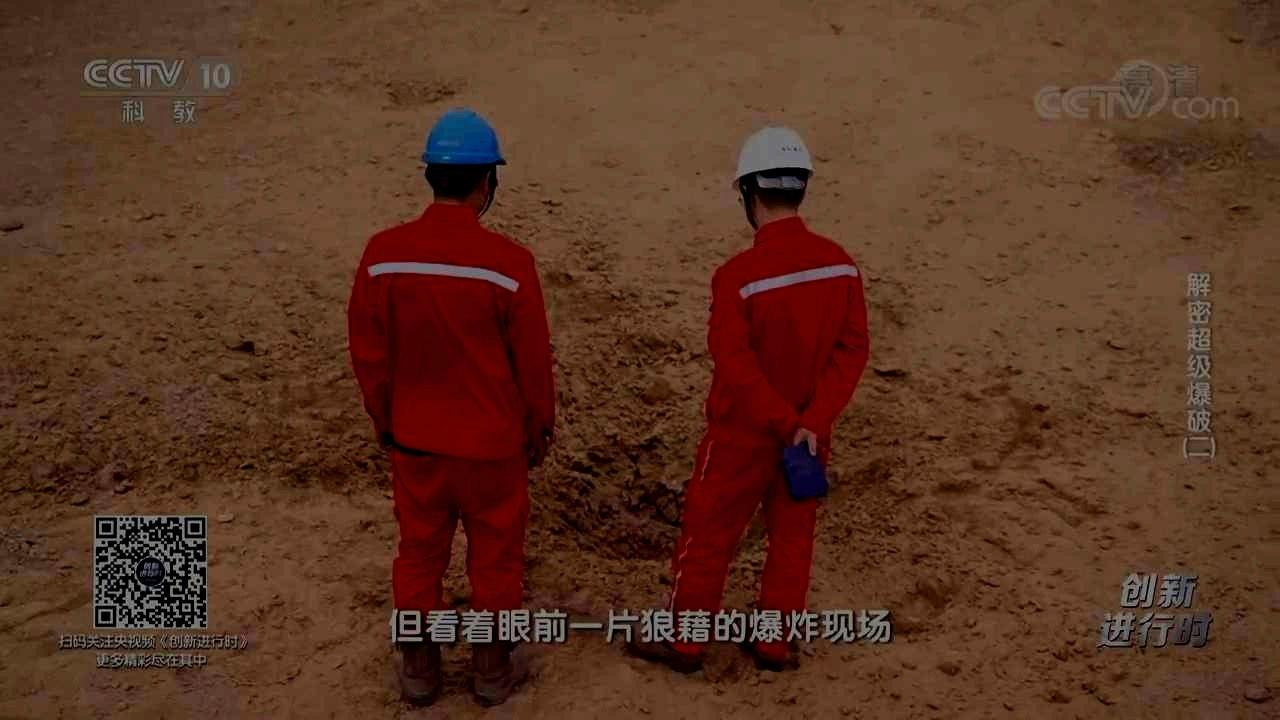helmet: (420, 104, 507, 214), (731, 123, 816, 230)
